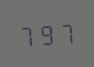nine: (38, 20, 56, 46)
seven: (18, 21, 36, 47), (57, 19, 75, 45)
